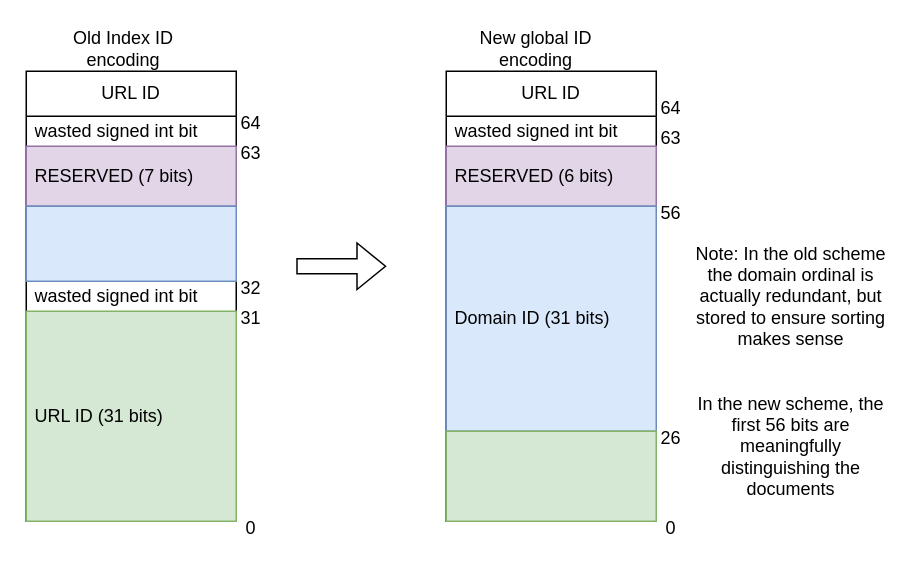
This 923x576 diagram has some shape labels left out. The shapes that lost their labels are listed below. From the top down, each one's centre as x and y in pixels, then its label:
the point at 130,243: Domain Ordinal (24 bits)
the point at 550,475: Ordinal (26 bits)
